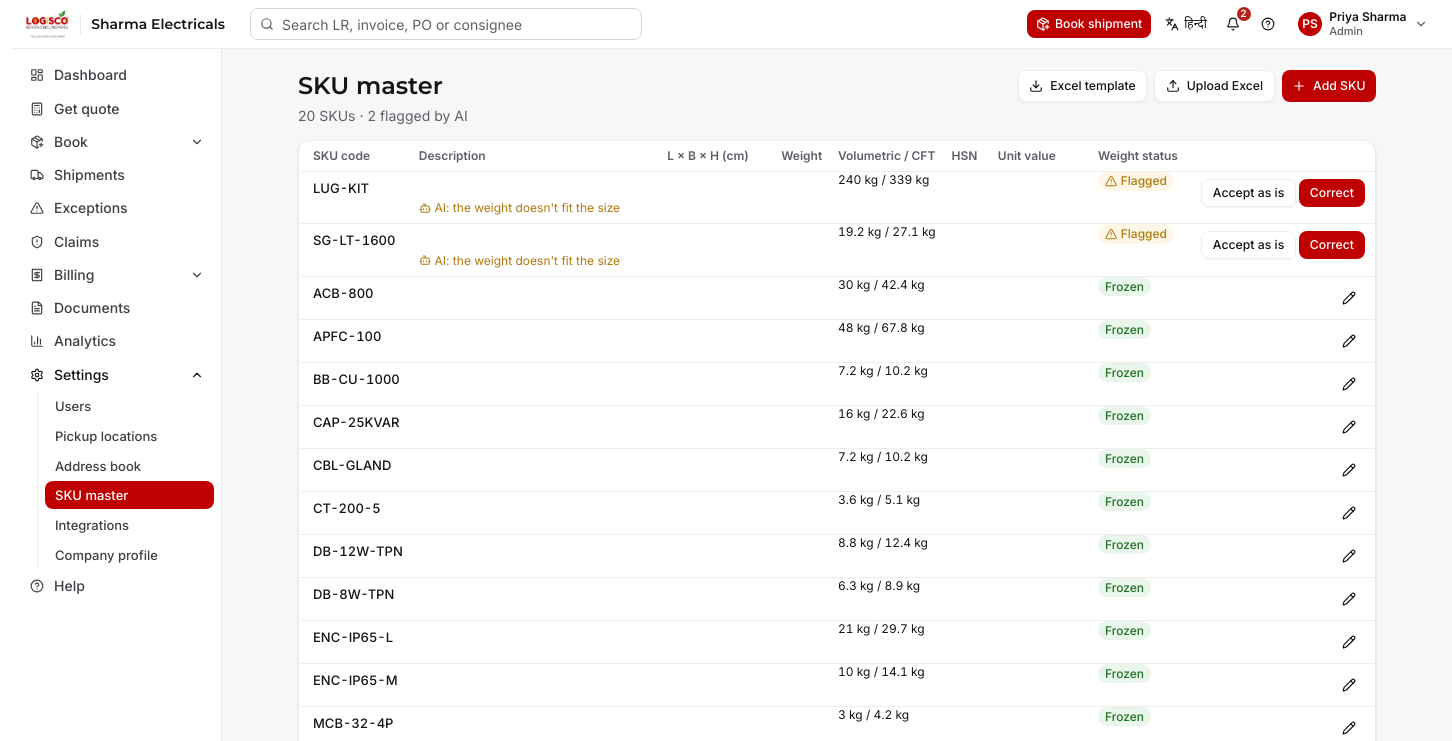
Test: Customer settings: CP-28, CP-31, CP-32, CP-36, CP-37 › CP-31: two flagged SKUs; Accept as is sends one to Logisco
Expected: the text "20 SKUs · 2 flagged by AI" is shown, [298,106,468,126]
Click the button "Accept as is" in the row of "LUG-KIT" at (1249, 192), box [1201,178,1296,206]
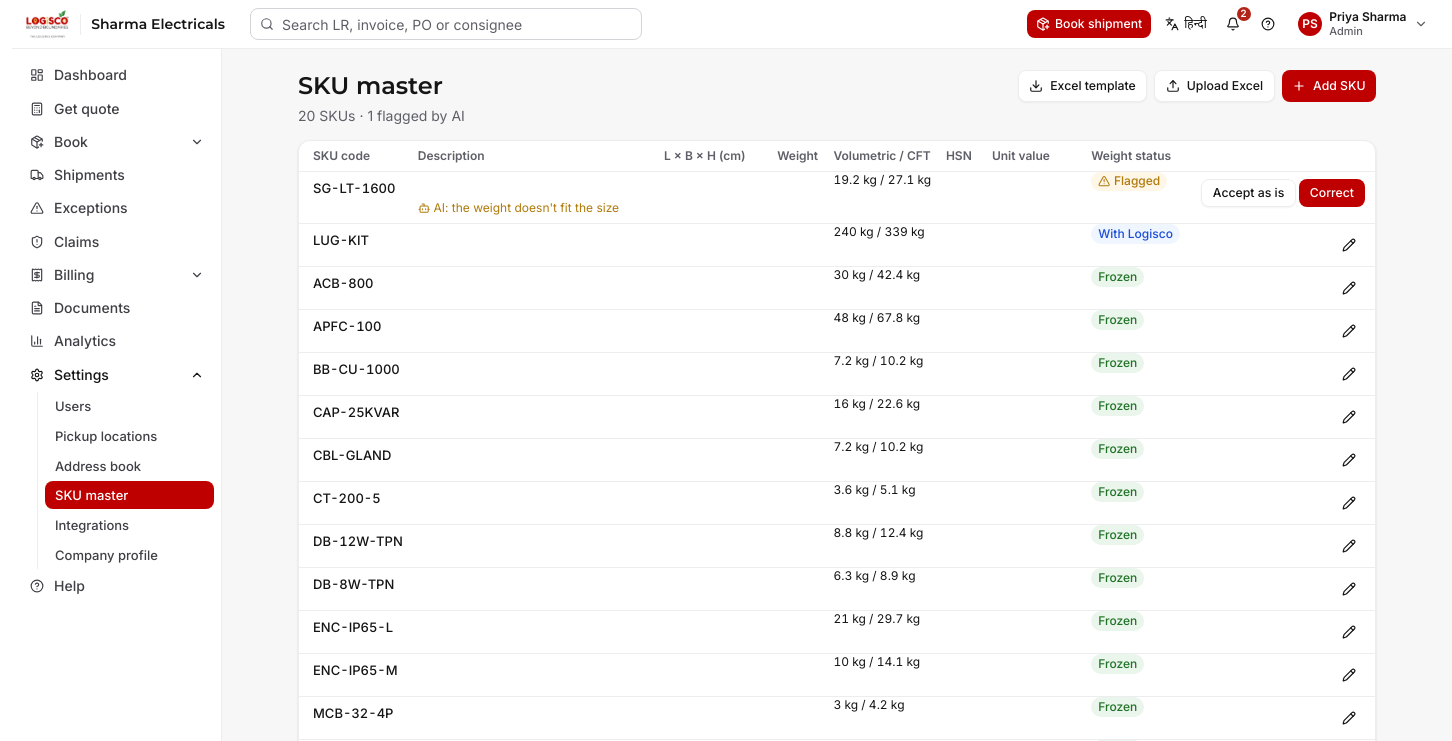
Result: the text "With Logisco" is shown at [1091,224,1180,244]
